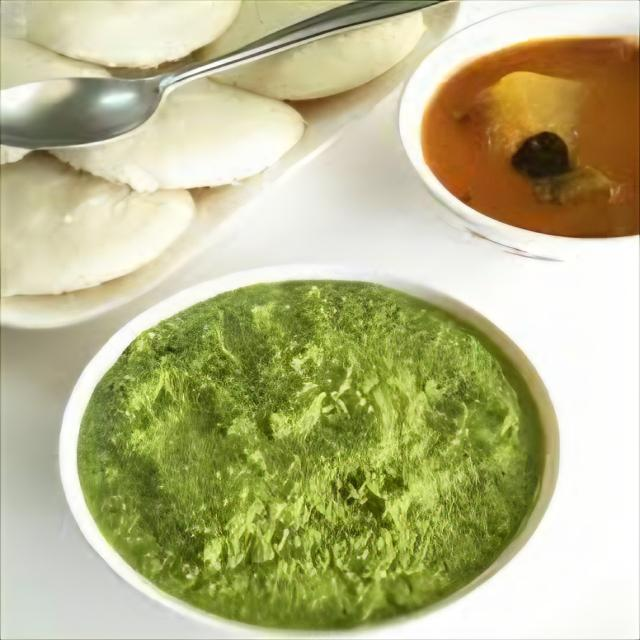GREEN CHUTNEY: (77, 281, 543, 628)
IDLI: (0, 13, 426, 297), (0, 0, 351, 99)
SAMBAR: (421, 38, 639, 237)
